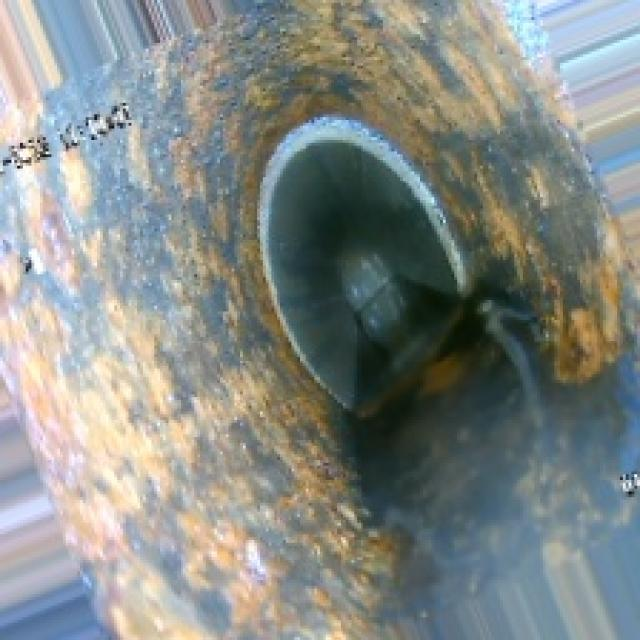encrustation: (148, 68, 546, 523)
